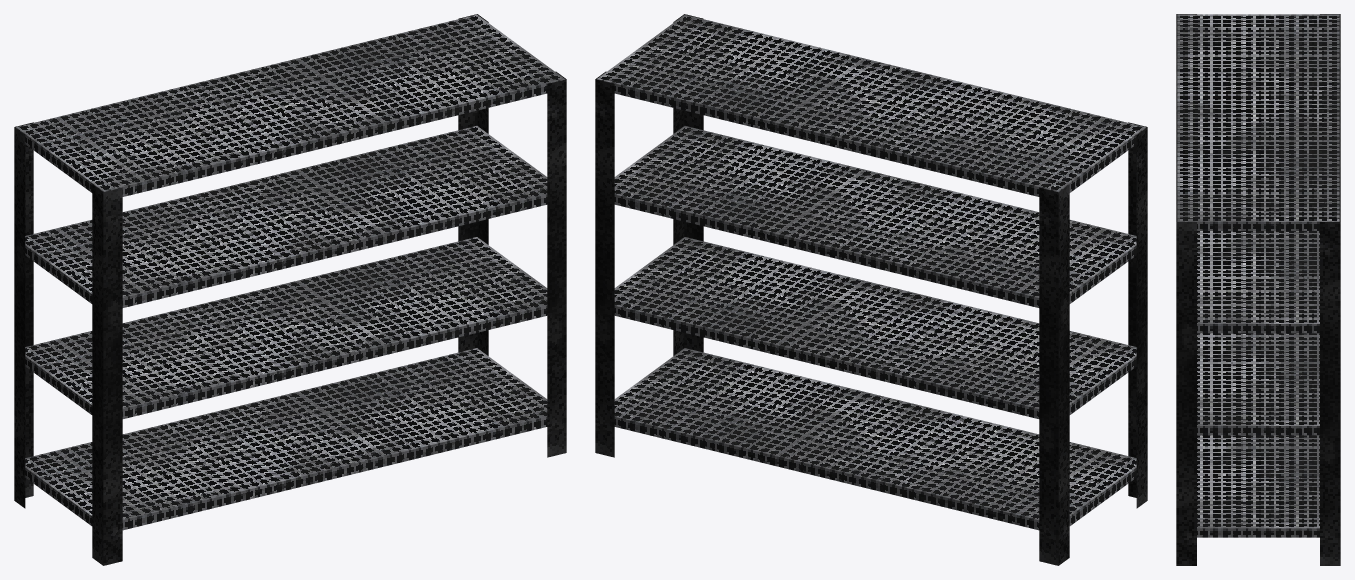
File: psx_old_metal_shelf.glb
3 renders of one model, left to right at view 1: azimuth 30°, elevation 25°; view 2: azimuth 150°, elevation 25°; view 3: azimuth 270°, elevation 25°, orthographic. The views are drawn at different scales.
Visible parts, largest first — view 1: shelf4_3, shelf1_0, shelf3_2, shelf2_1, leg1_5, leg2_6, leg4_7, leg3_8; view 2: shelf4_3, shelf1_0, shelf3_2, shelf2_1, leg4_7, leg3_8, leg1_5, leg2_6; view 3: shelf4_3, shelf1_0, shelf2_1, shelf3_2, leg2_6, leg3_8, leg1_5, leg4_7.
Part boxes in pixels (left/top/right/bottom): shelf4_3: left=15, top=14, right=565, bottom=196; shelf1_0: left=25, top=348, right=547, bottom=530; shelf3_2: left=25, top=126, right=547, bottom=307; shelf2_1: left=25, top=237, right=547, bottom=418; leg1_5: left=92, top=184, right=122, bottom=565; leg2_6: left=547, top=71, right=566, bottom=457; leg4_7: left=14, top=122, right=33, bottom=508; leg3_8: left=458, top=14, right=488, bottom=355; shelf4_3: left=596, top=14, right=1146, bottom=196; shelf1_0: left=614, top=348, right=1136, bottom=530; shelf3_2: left=614, top=126, right=1136, bottom=307; shelf2_1: left=614, top=237, right=1136, bottom=418; leg4_7: left=1039, top=184, right=1069, bottom=565; leg3_8: left=595, top=71, right=614, bottom=457; leg1_5: left=1128, top=122, right=1147, bottom=508; leg2_6: left=673, top=14, right=703, bottom=355; shelf4_3: left=1177, top=14, right=1339, bottom=230; shelf1_0: left=1197, top=435, right=1319, bottom=537; shelf2_1: left=1197, top=333, right=1319, bottom=435; shelf3_2: left=1197, top=231, right=1319, bottom=333; leg2_6: left=1176, top=222, right=1196, bottom=565; leg3_8: left=1320, top=222, right=1340, bottom=565; leg1_5: left=1176, top=14, right=1196, bottom=221; leg4_7: left=1320, top=14, right=1340, bottom=221.
Size of the model in its own units: 3 by 2.31 by 1.
1 material, 1 textured.
